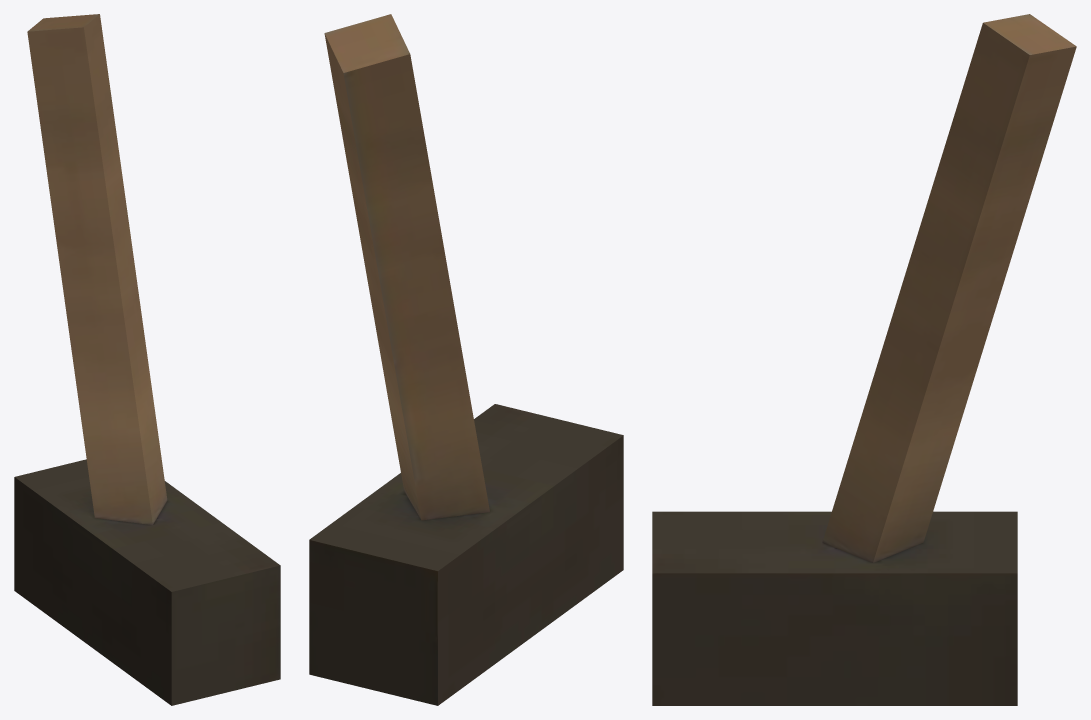
The model's file is life-tool-hammer.glb.
The picture shows the model from 3 angles, left to right: view 1: azimuth 30°, elevation 25°; view 2: azimuth 150°, elevation 25°; view 3: azimuth 270°, elevation 25°; orthographic projection. The views are drawn at different scales.
Parts seen in each view (by area): view 1: life-tool-hammer; view 2: life-tool-hammer; view 3: life-tool-hammer.
Part boxes in pixels (bbox=[...]): life-tool-hammer: bbox=[14, 14, 280, 705]; life-tool-hammer: bbox=[309, 14, 623, 705]; life-tool-hammer: bbox=[652, 14, 1076, 705].
Size of the model in its own units: 0.012 by 0.0591 by 0.0349.
1 material, 1 textured.
